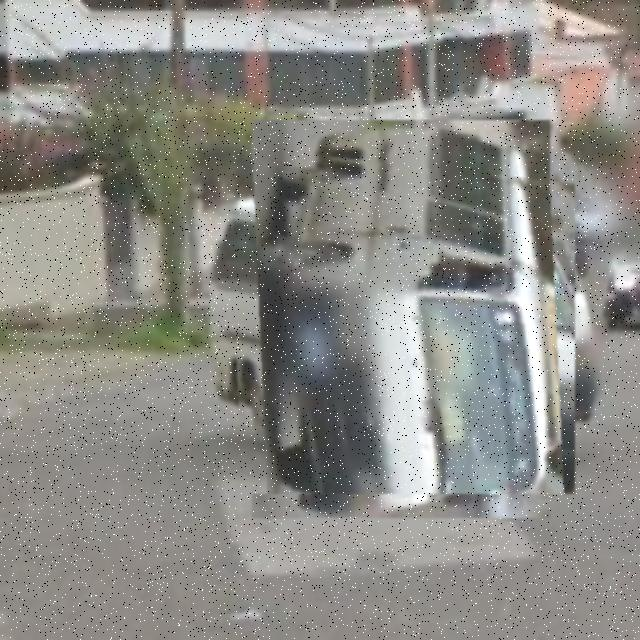car: (228, 146, 576, 495)
